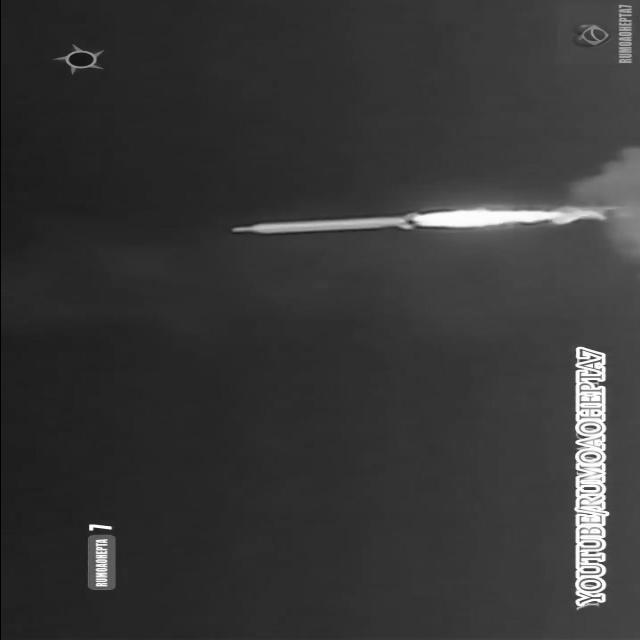missile: (224, 212, 426, 234)
